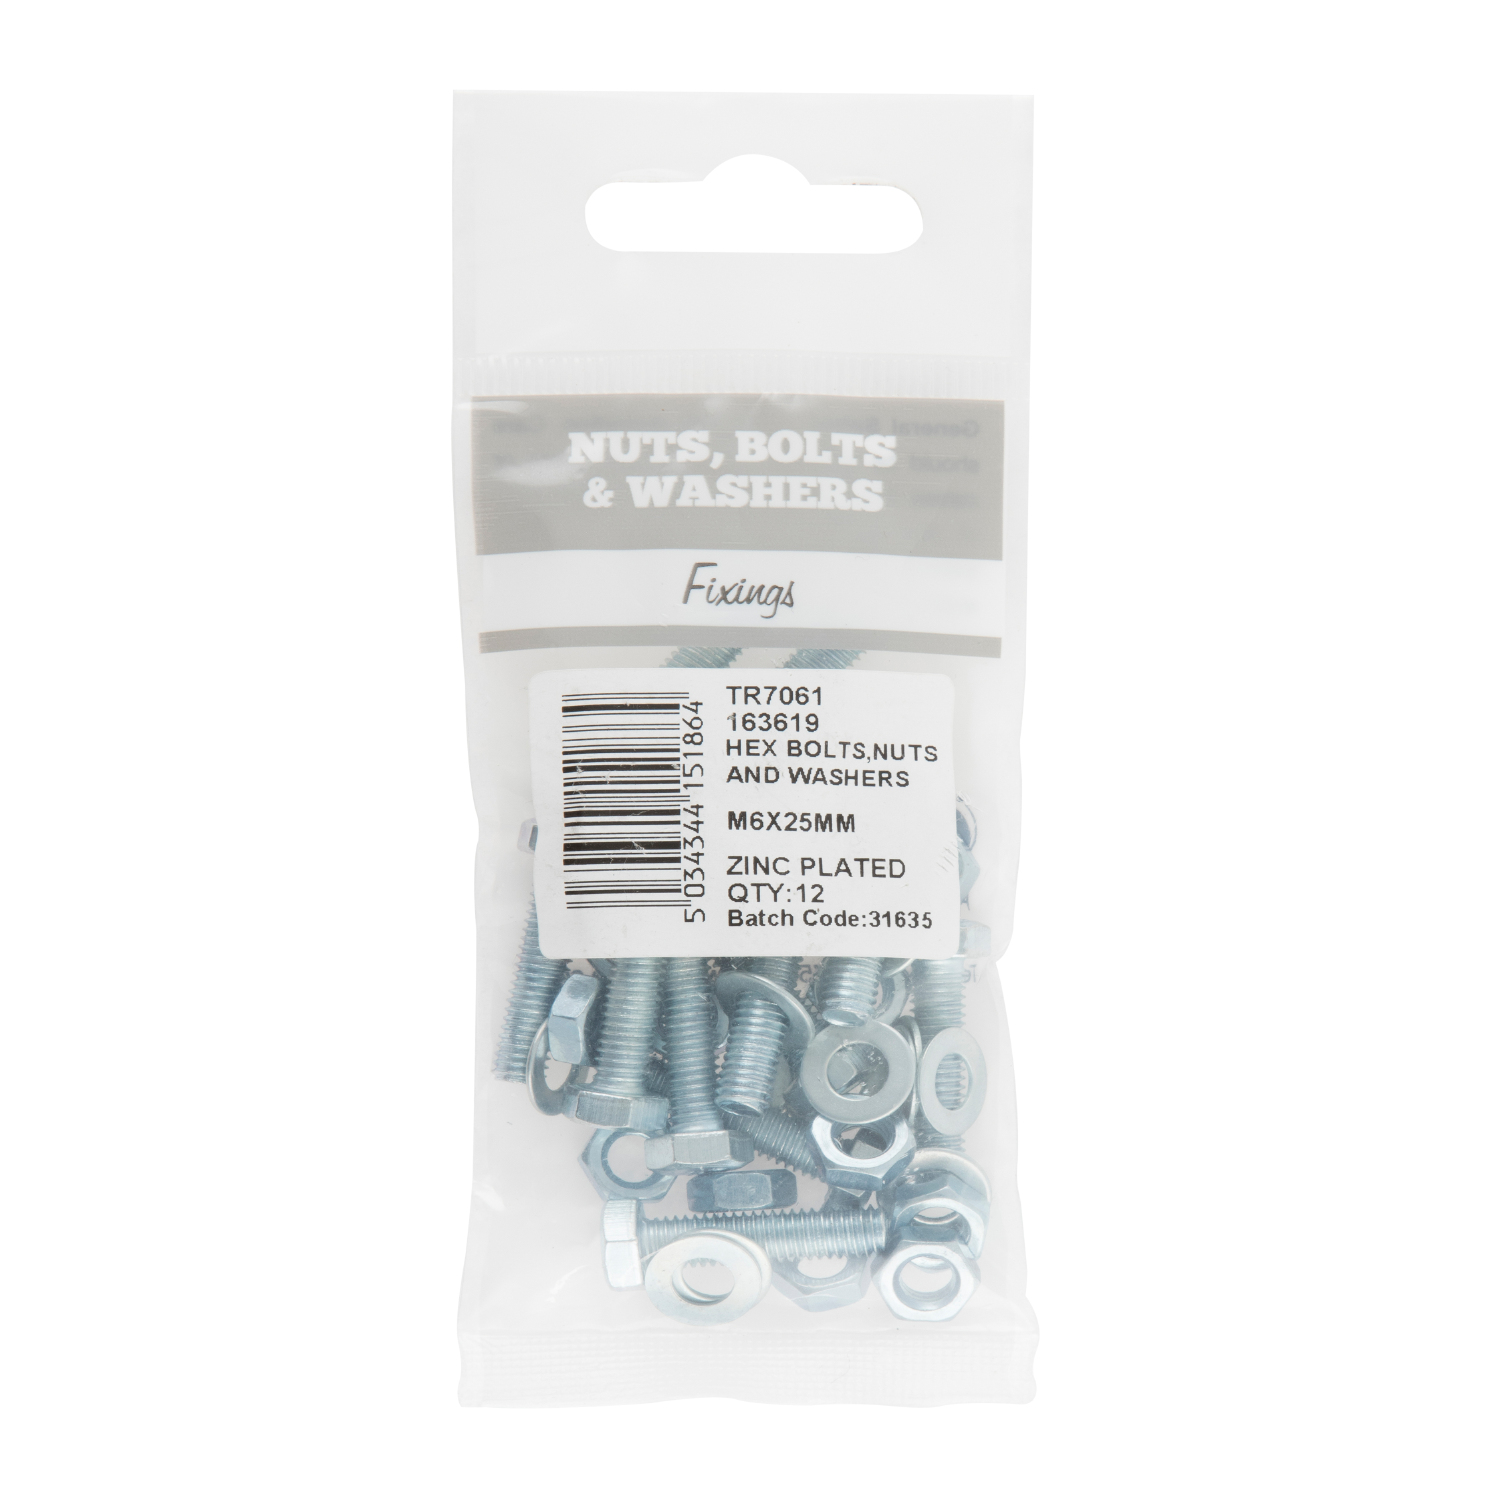flat washer: (630, 1213, 783, 1341), (793, 1011, 924, 1135)
hex bolt: (581, 1185, 904, 1294)
